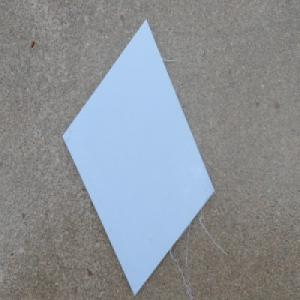PaintChip: (61, 17, 215, 297)
